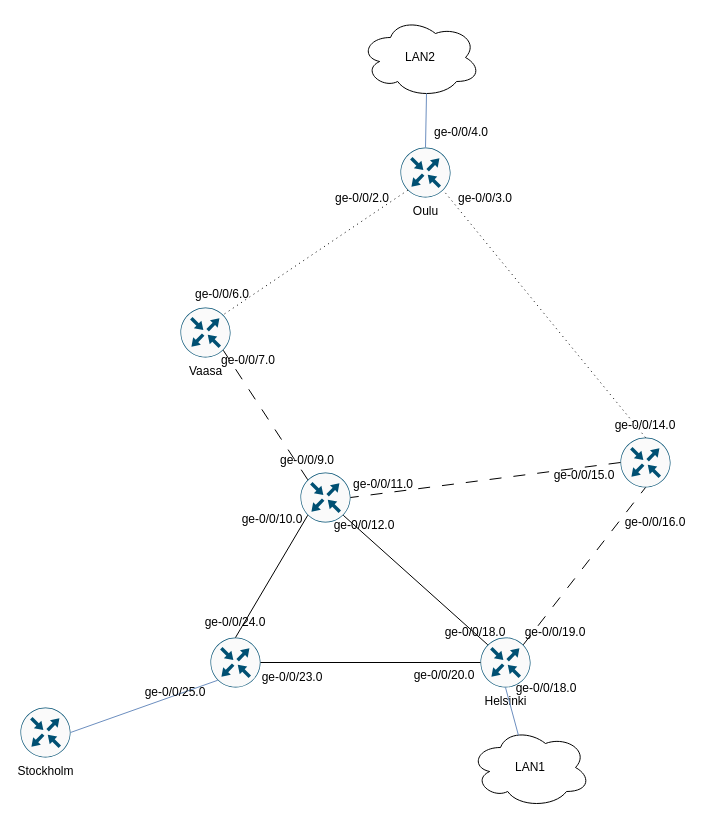
This 707x825 diagram has some shape labels left out. The centre of each missing label's shape, as x and y in pixels:
"Lappeenranta" goes at [645,462].
"Tampere" goes at [325,497].
"Turku" goes at [235,662].
